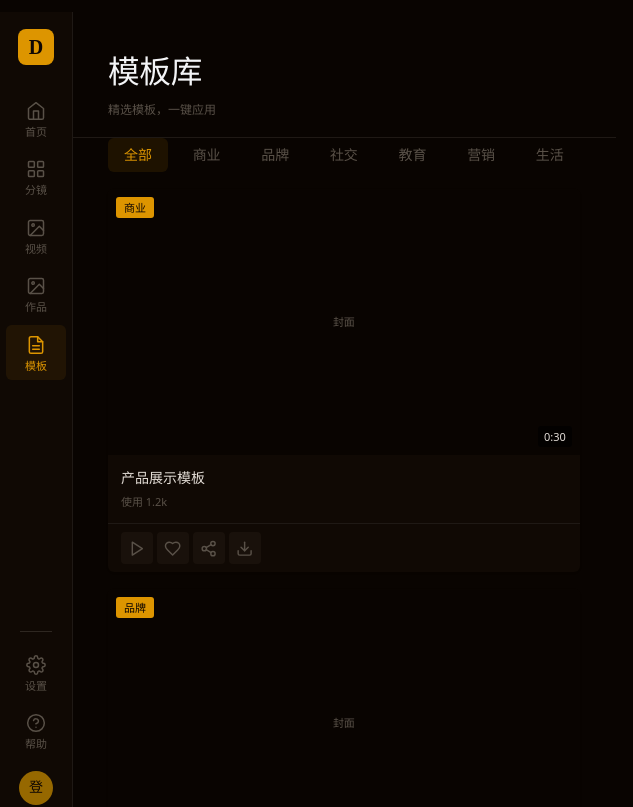
模板页面测试 › 分类筛选测试 › 点击全部显示所有模板
What coordinates should you click on to do the following:
click the text "商业" next to "全部"
I would click on:
 (207, 155)
Its box is [193,145,221,164].
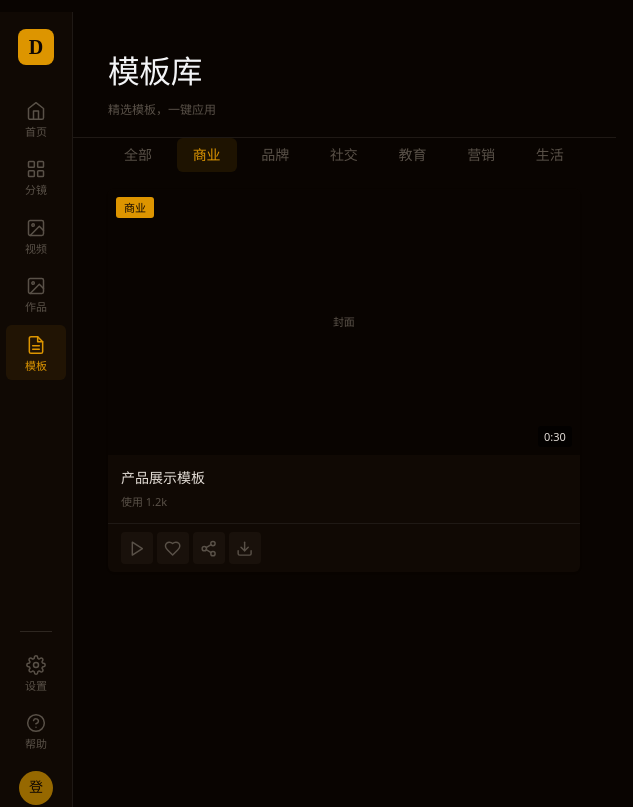
What coordinates should you click on to do the following:
click the text "全部"
I would click on:
 (138, 155)
Its box is [124,145,152,164].
(page scrolled)
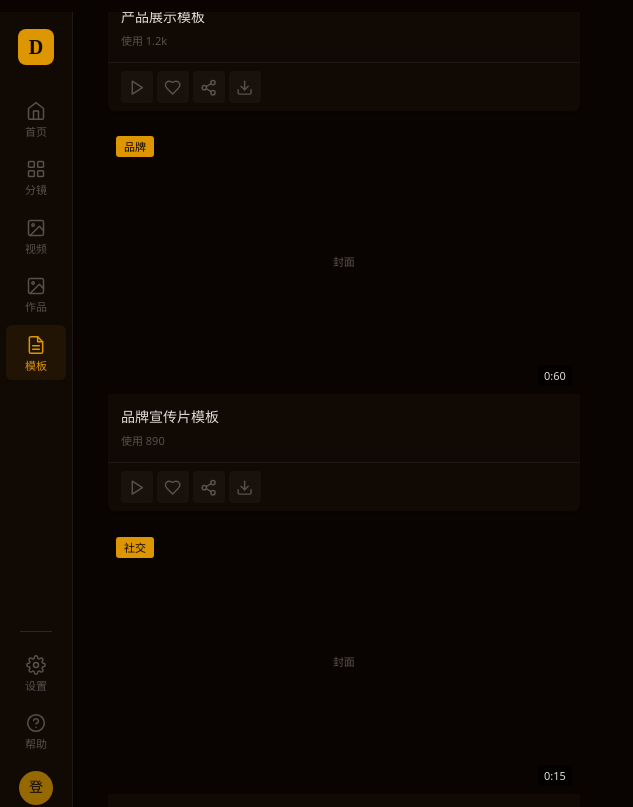
Expected: the text "产品展示模板" is shown, [121,12,205,26]
Expected: the text "品牌宣传片模板" is shown, [121,407,219,426]
